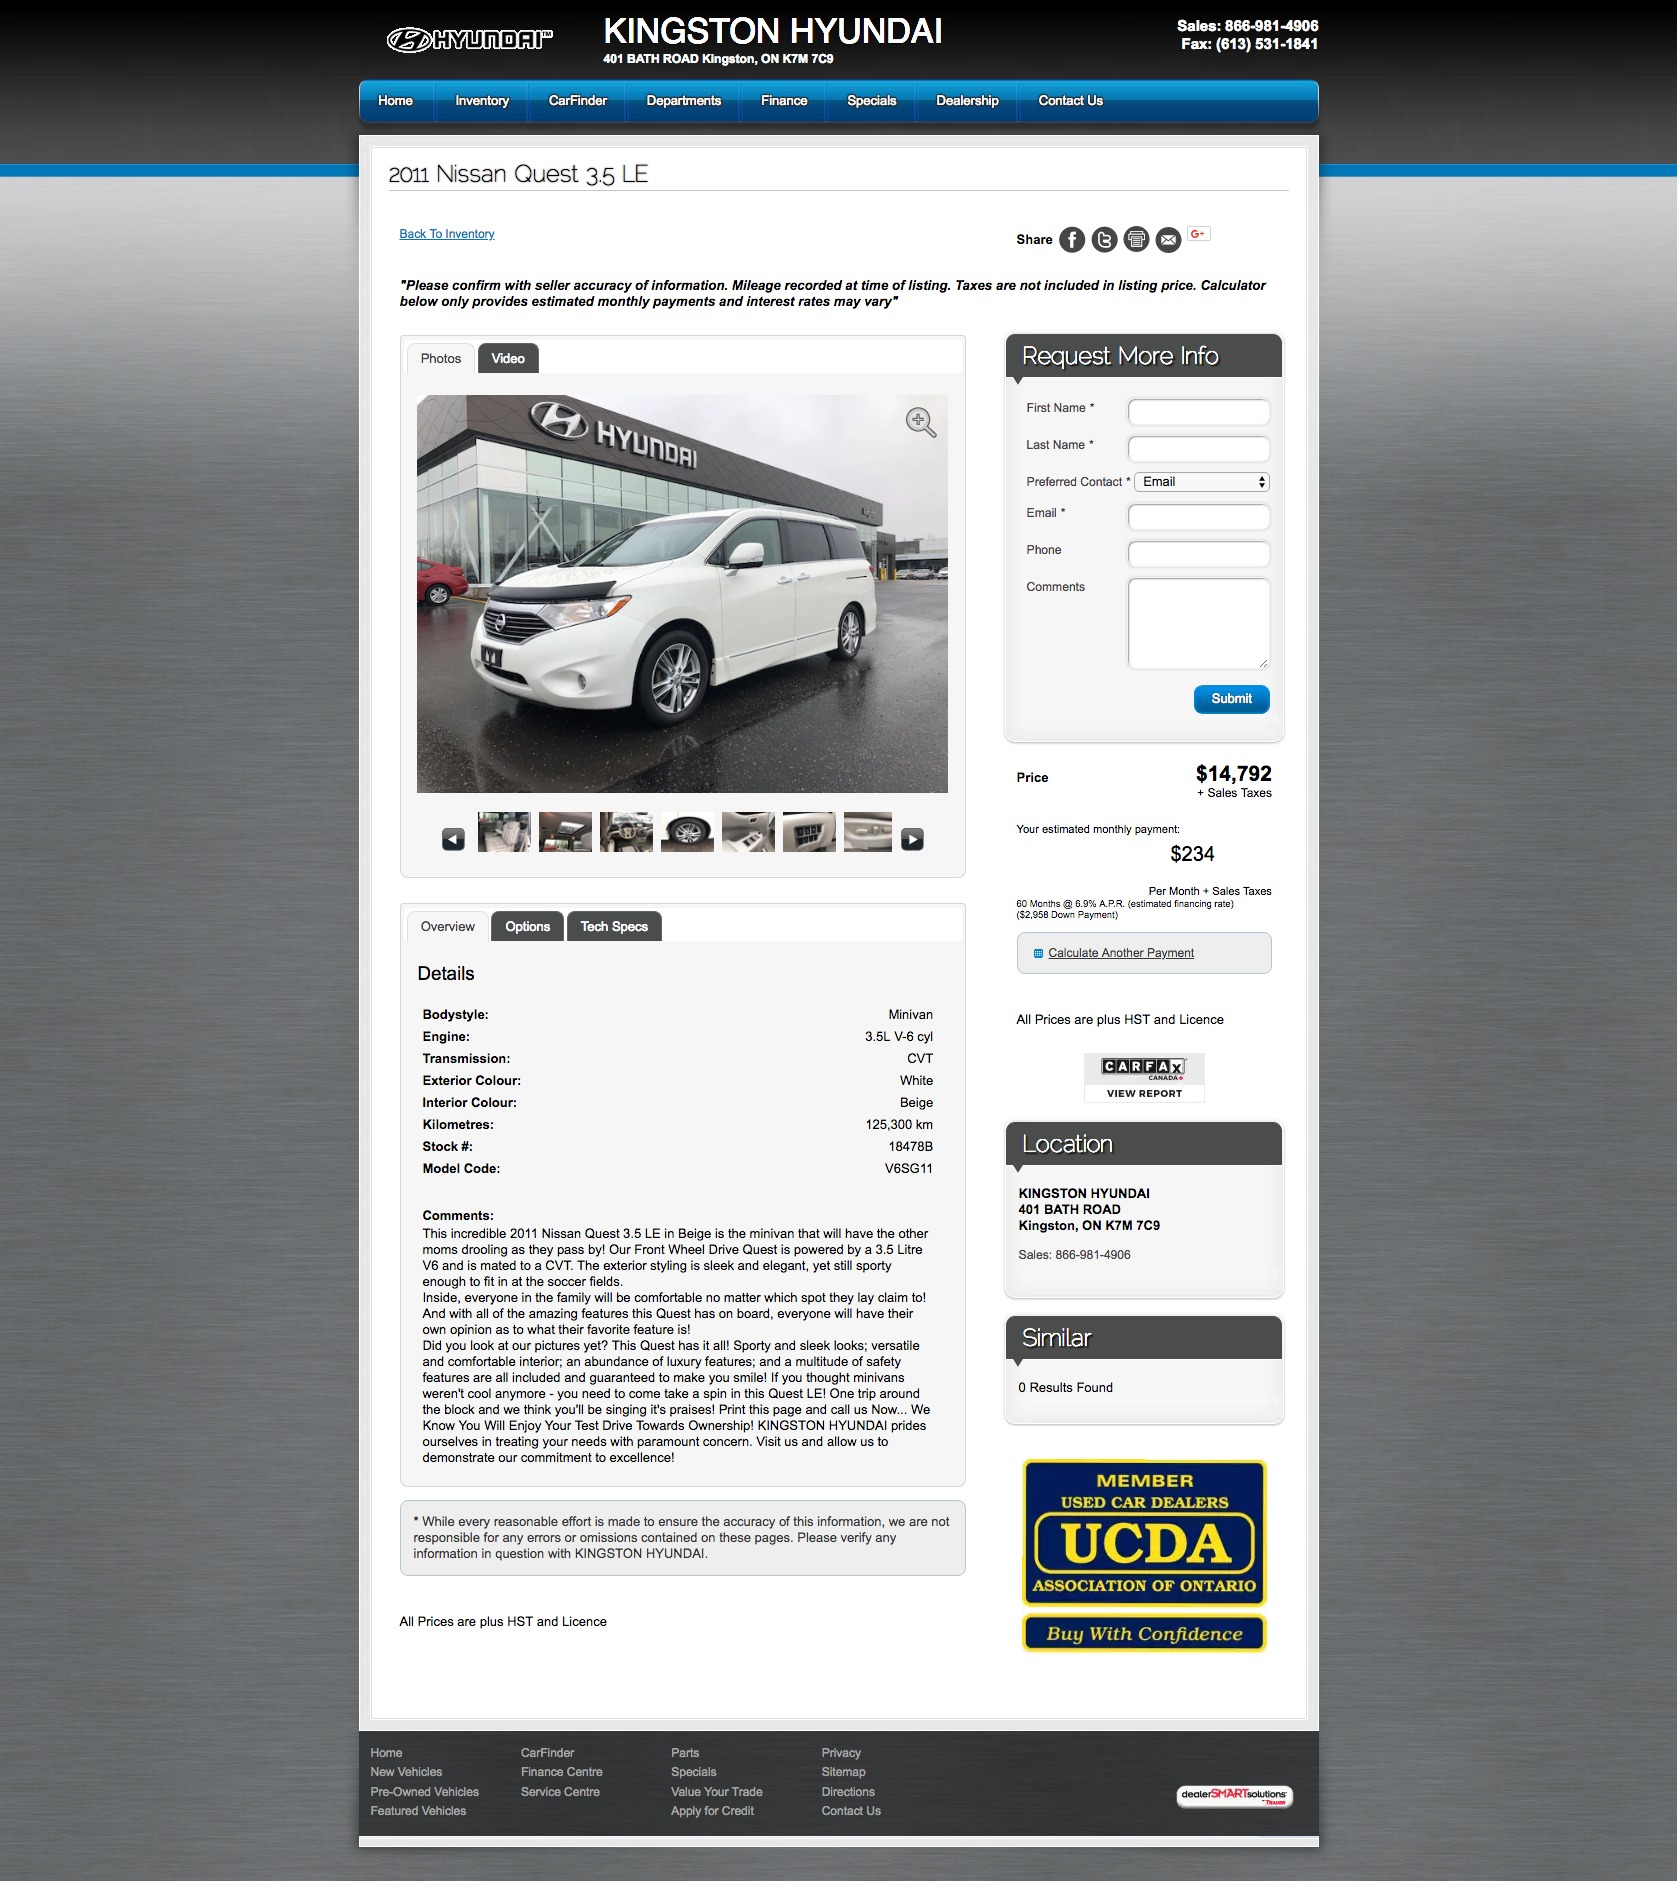car: (910, 834, 918, 845)
